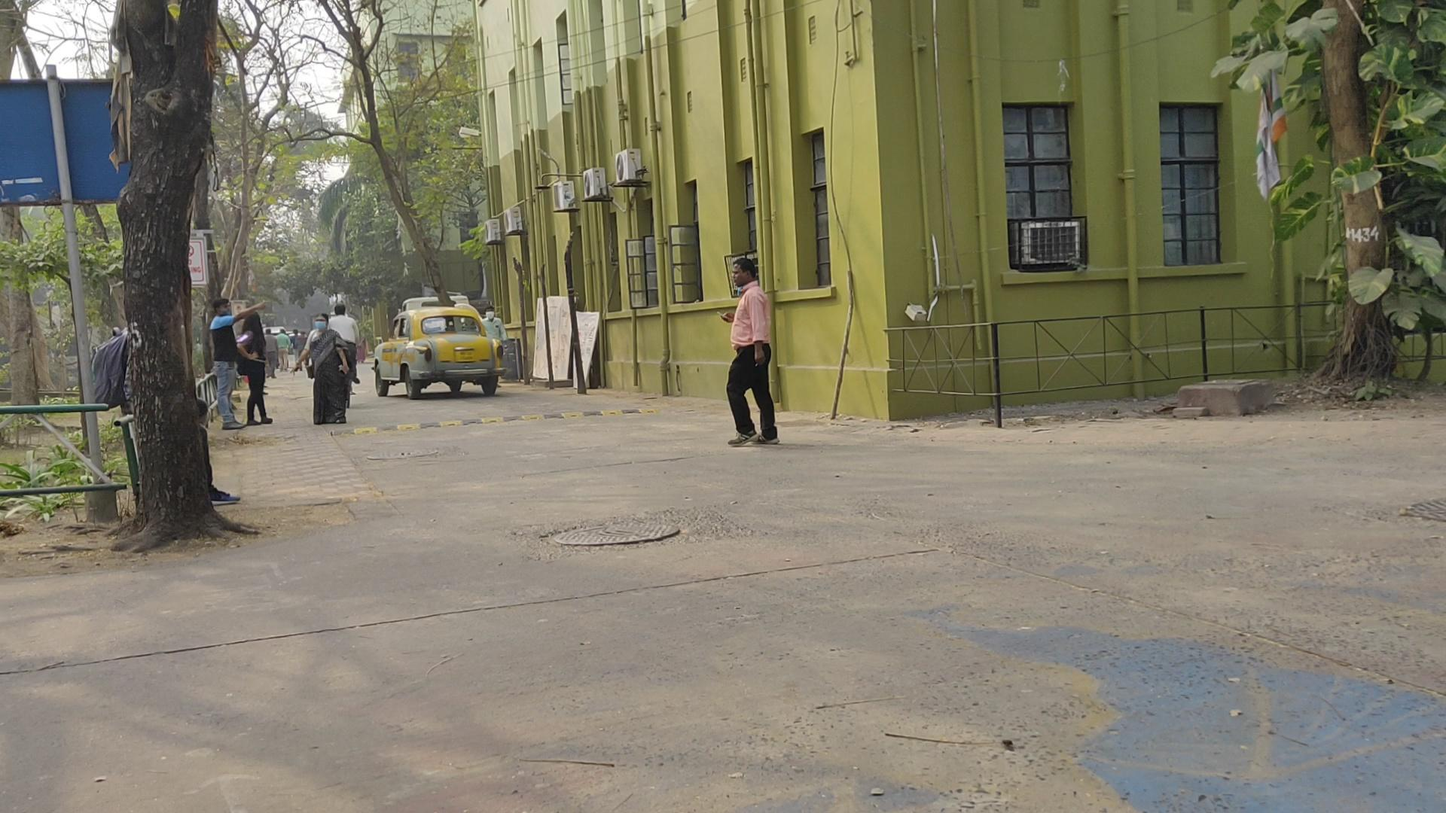bike: (325, 303, 359, 412)
car: (374, 305, 504, 401)
